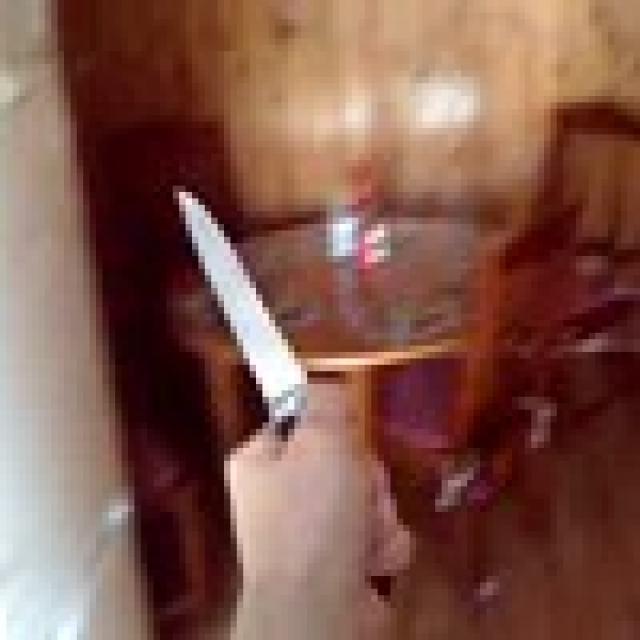knife: (173, 186, 384, 596)
